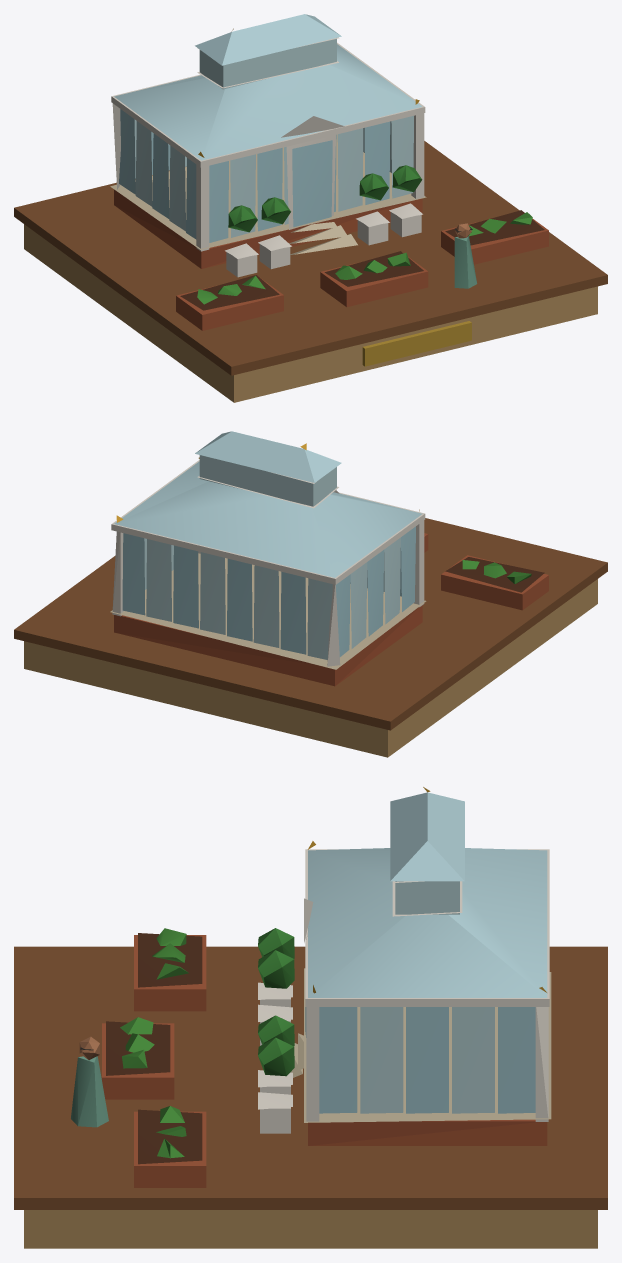
Rendered from glasshouse_garden_souvenir.glb.
3 renders of one model, top to bottom at view 1: azimuth 30°, elevation 25°; view 2: azimuth 150°, elevation 25°; view 3: azimuth 270°, elevation 25°, orthographic. The views are drawn at different scales.
Parts seen in each view (by area): view 1: decor-glasshouse_garden_souvenir; view 2: decor-glasshouse_garden_souvenir; view 3: decor-glasshouse_garden_souvenir.
Boxes of the visible parts, x1,y1,x2,y2 form: decor-glasshouse_garden_souvenir: (14, 14, 607, 402); decor-glasshouse_garden_souvenir: (14, 431, 607, 757); decor-glasshouse_garden_souvenir: (14, 787, 607, 1248).
Size of the model in its own units: 1.76 by 1.04 by 1.76.
